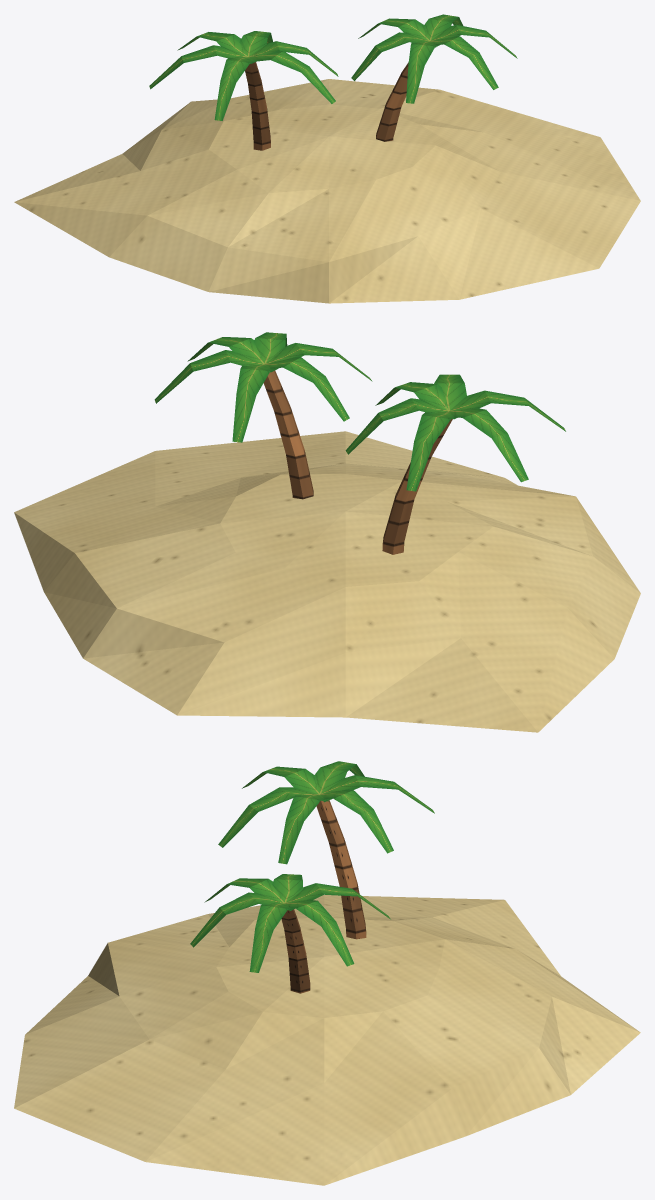
File: island1.obj
The picture shows the model from 3 angles, top to bottom: view 1: azimuth 30°, elevation 25°; view 2: azimuth 150°, elevation 25°; view 3: azimuth 270°, elevation 25°; orthographic projection. The views are drawn at different scales.
Visible parts, largest first — view 1: Land, Palms; view 2: Land, Palms; view 3: Land, Palms.
Boxes of the visible parts, <box> form: Land: <box>14,79,640,303</box>; Palms: <box>149,14,517,150</box>; Land: <box>14,431,640,732</box>; Palms: <box>154,332,565,554</box>; Land: <box>14,895,640,1185</box>; Palms: <box>190,761,434,993</box>.
Size of the model in its own units: 5.94 by 1.99 by 5.53.
3 materials, 3 textured.
